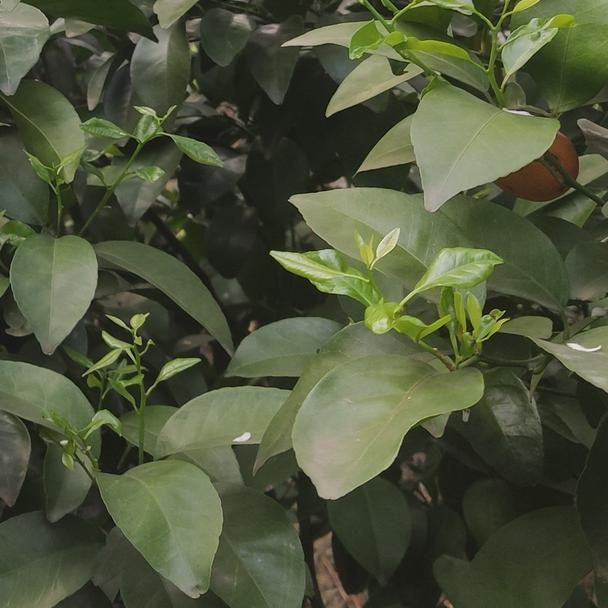shoot: (291, 226, 489, 356), (95, 102, 218, 212), (85, 314, 200, 429)
